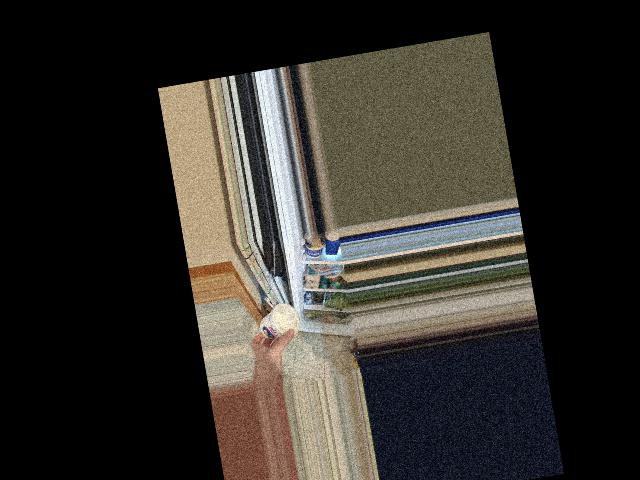cotage: (258, 302, 303, 346)
